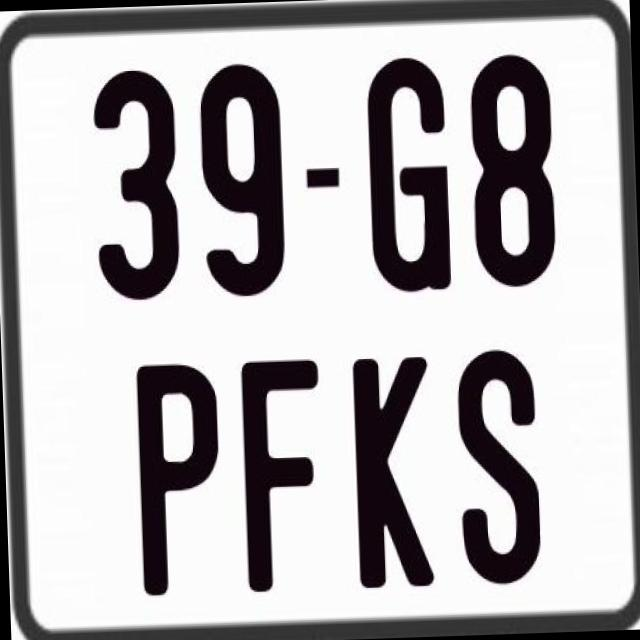3: (90, 69, 178, 304)
8: (464, 48, 554, 283)
9: (198, 62, 294, 304)
F: (240, 354, 330, 588)
G: (363, 53, 455, 291)
K: (352, 354, 435, 586)
P: (132, 357, 220, 599)
S: (452, 343, 538, 584)
